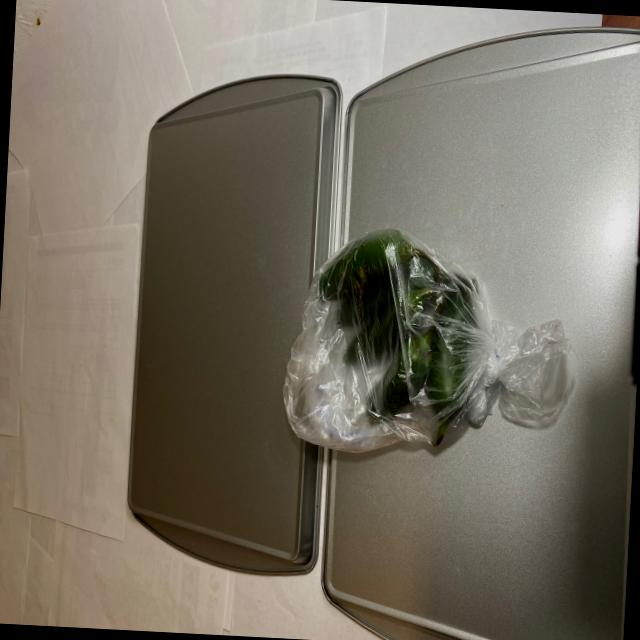chilli: (297, 222, 506, 456)
